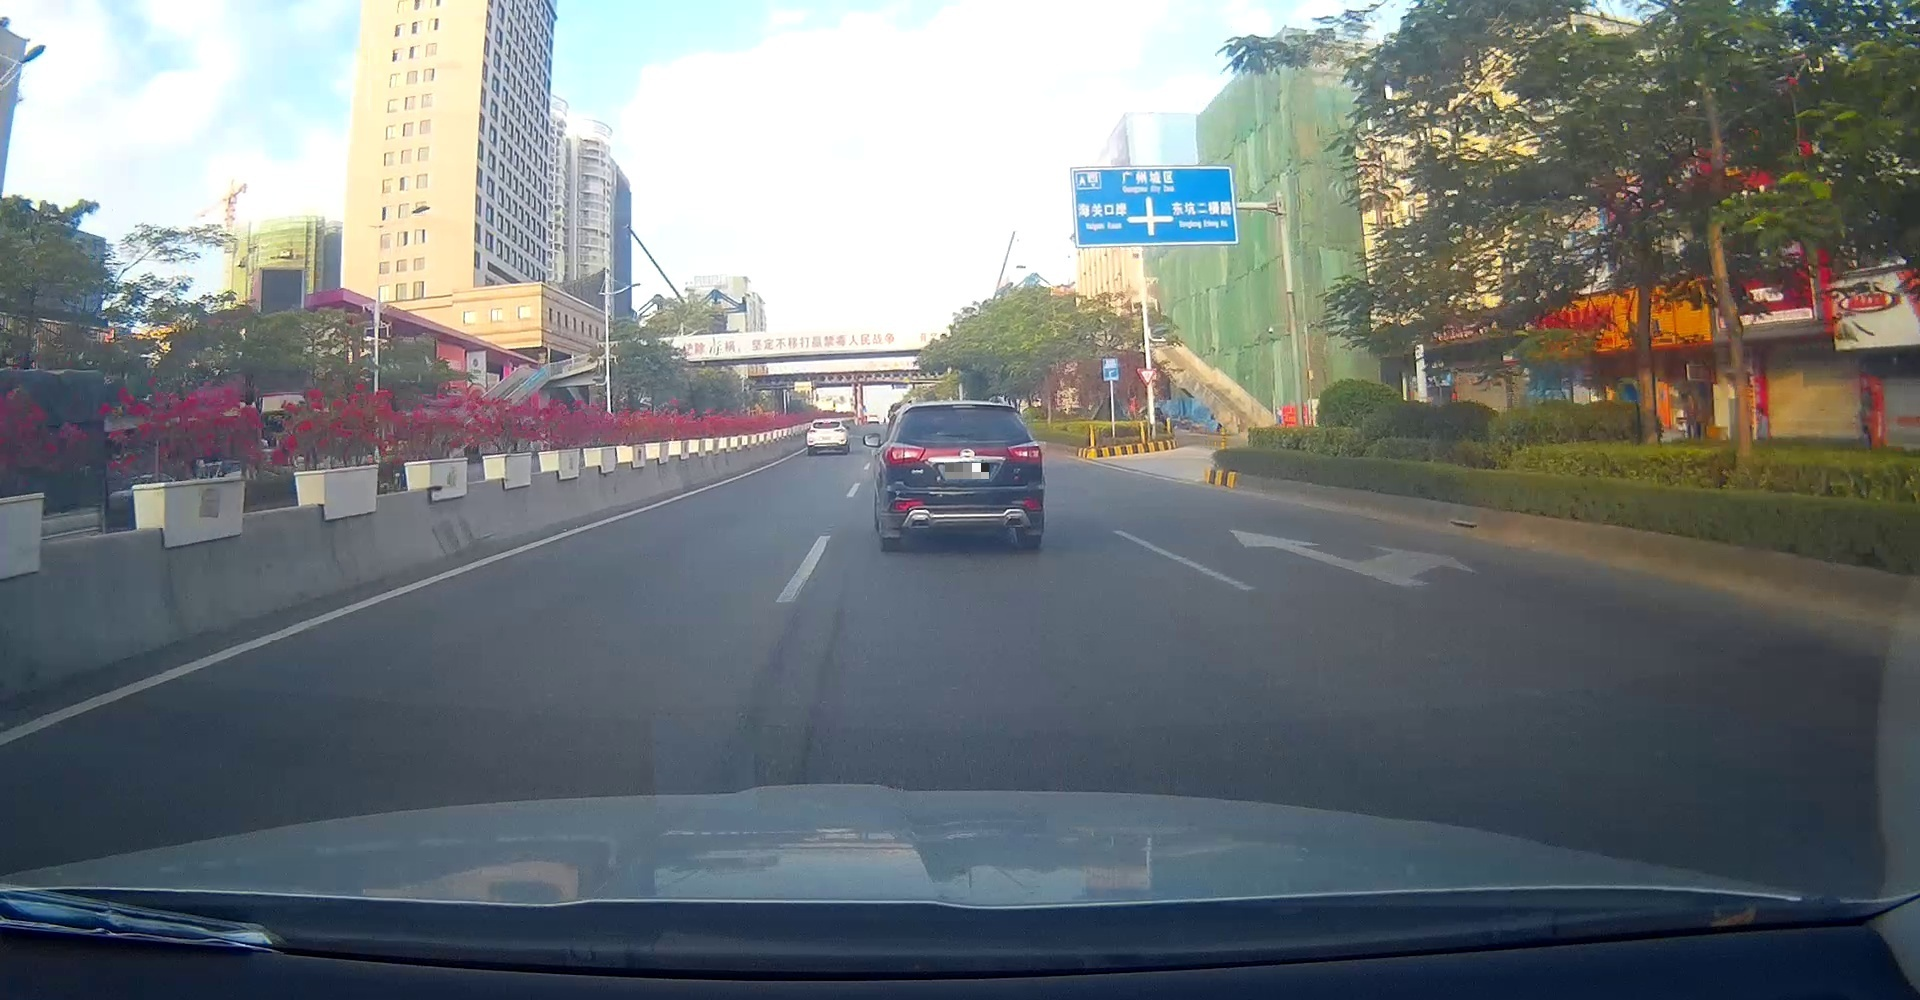L_light: (885, 444, 924, 464), (808, 429, 817, 431)
R_light: (1007, 440, 1043, 463), (834, 428, 844, 431)
T_light: (950, 404, 977, 410), (822, 420, 832, 424)
day-no: (884, 400, 1043, 552), (806, 418, 847, 456)
plate_1: (945, 463, 989, 478)
